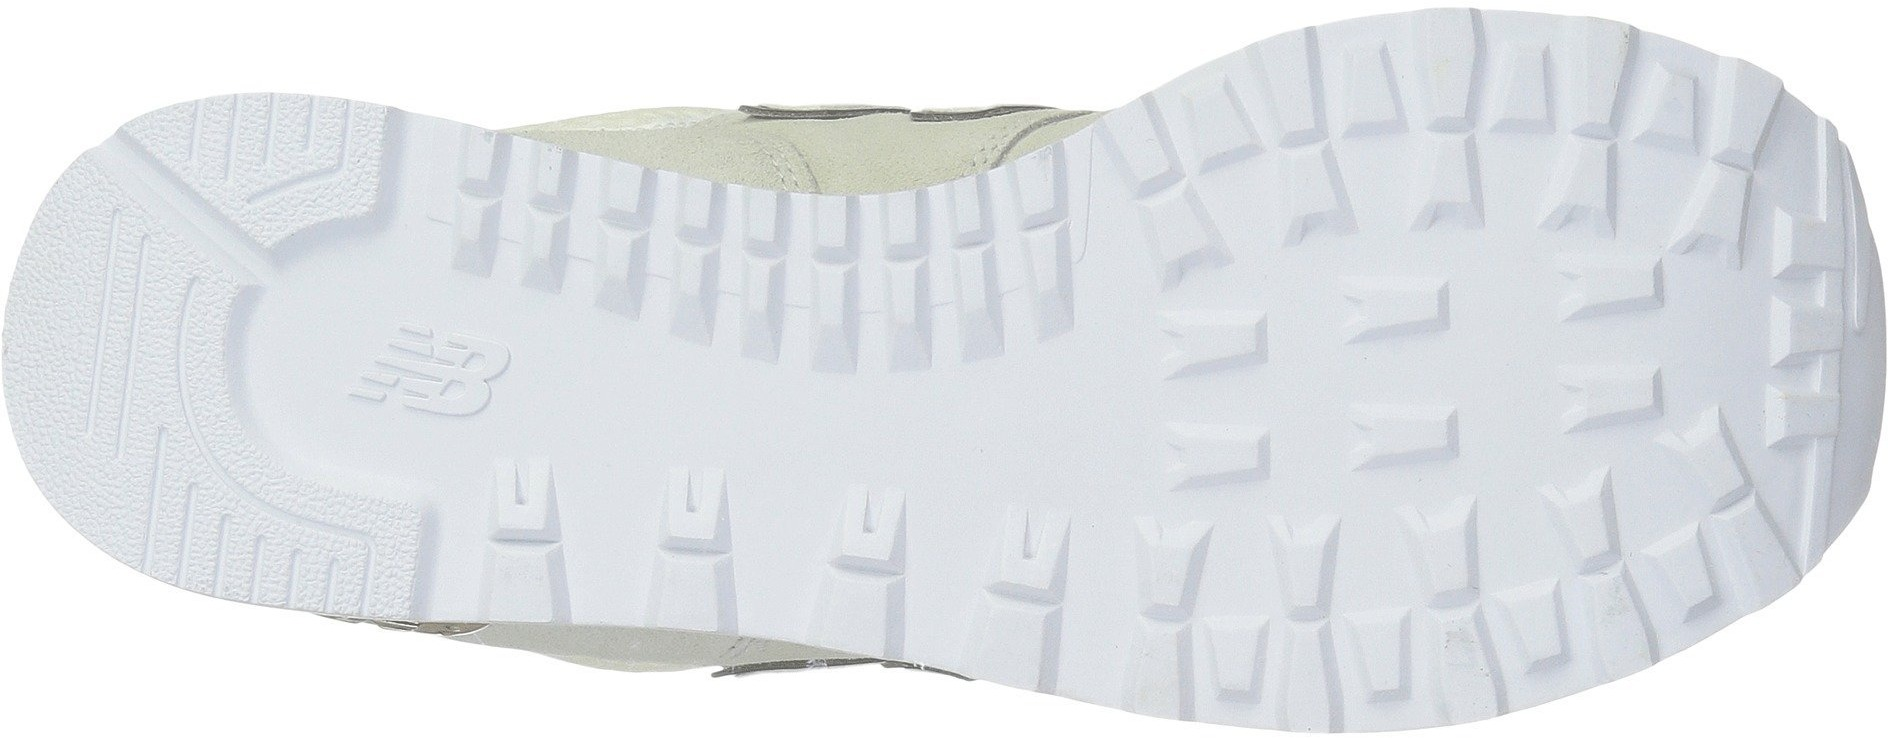other: (529, 329, 716, 508), (979, 358, 1163, 516)
quad: (808, 200, 945, 326), (456, 148, 585, 262)
text: (348, 302, 498, 456)
